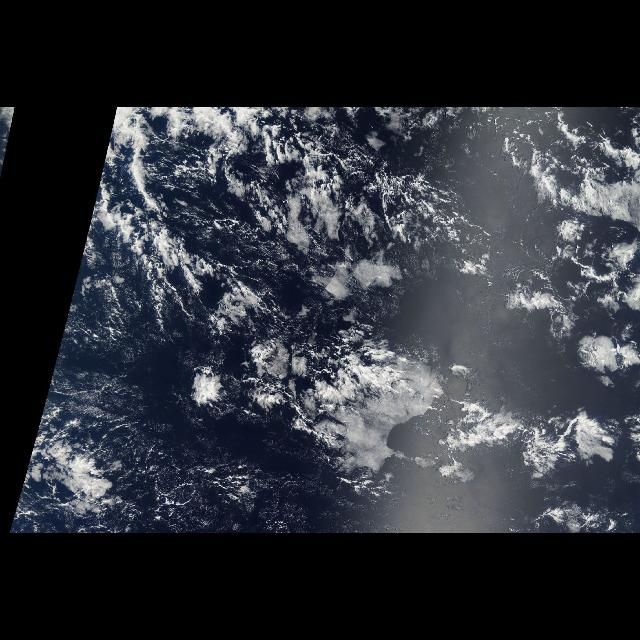Flower: (465, 111, 639, 497), (148, 308, 296, 434)
